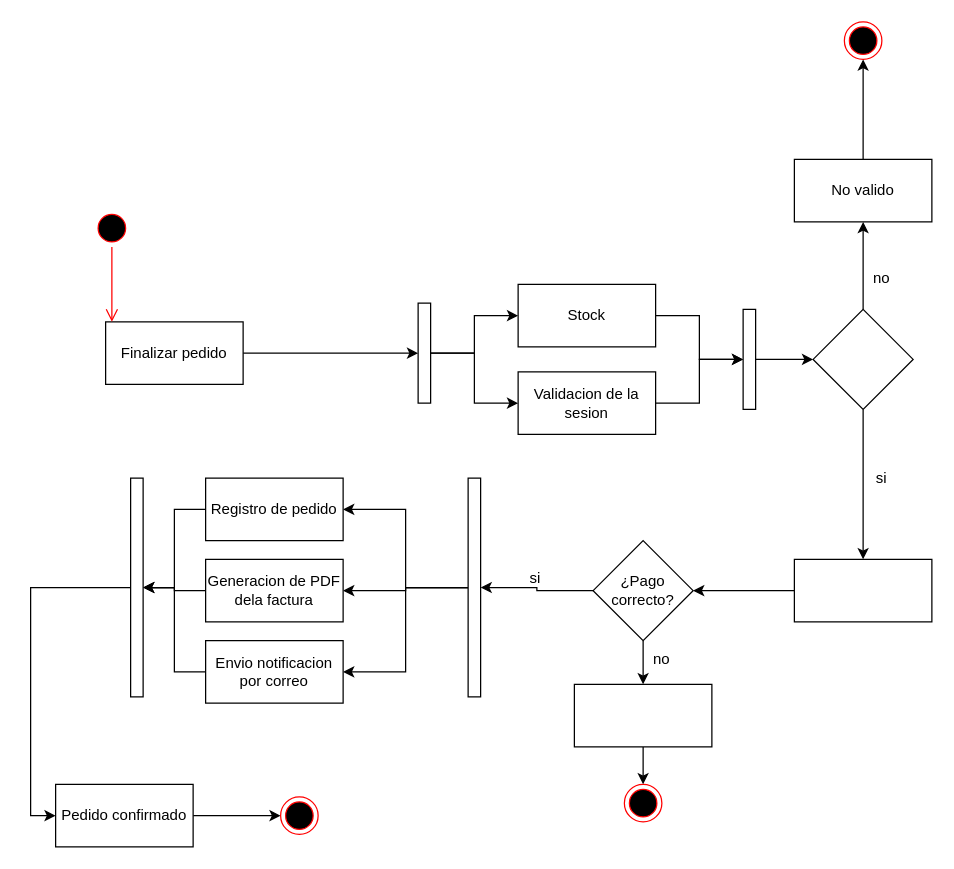
Image size: 954x869. Some labels were removed from this diagram. Each missing label, with the centre of its shape:
Pago fallido: (642,715)
Pasarela de pago: (862,590)
Validacion: (862,358)
